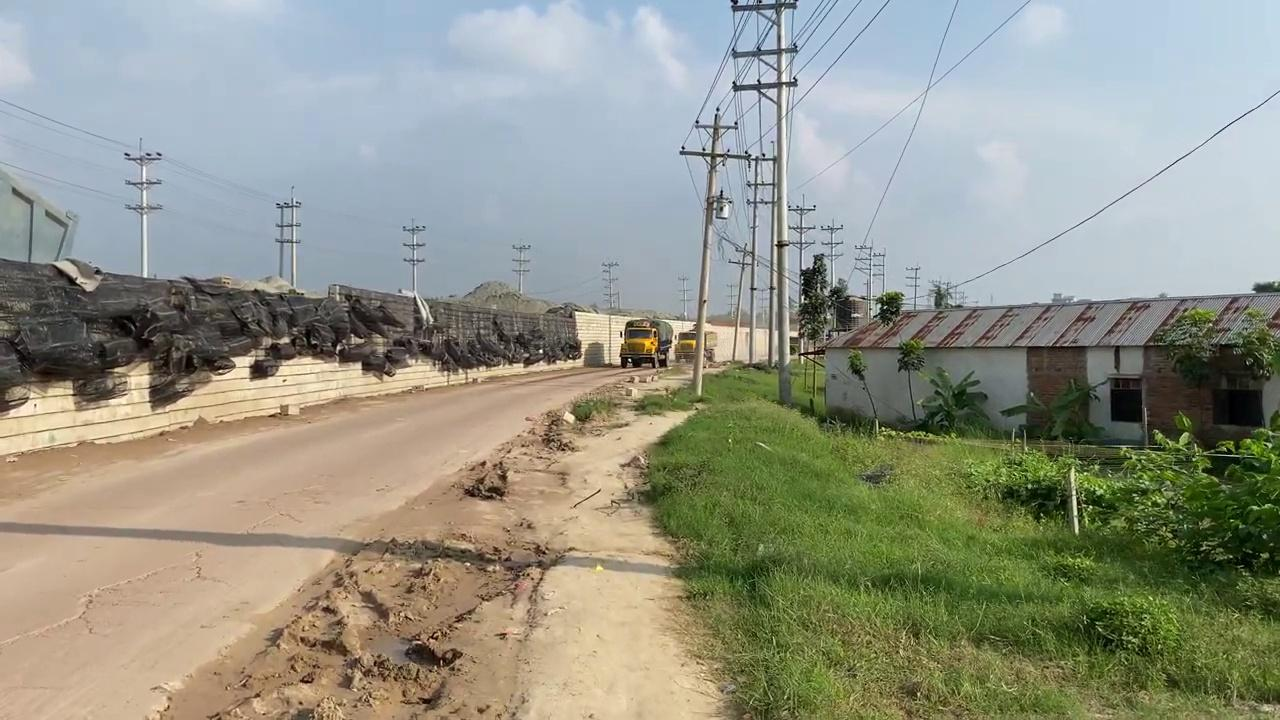Garbage: (0, 256, 581, 399)
Muddy road: (0, 356, 707, 718)
Pole: (729, 0, 799, 404), (680, 109, 747, 397), (769, 1, 797, 405)
Traffic-sign: (916, 364, 989, 435), (895, 336, 925, 421), (873, 289, 904, 326)
Tree: (619, 318, 672, 368)
